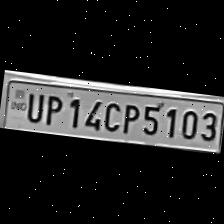0: (176, 106, 199, 140)
1: (61, 93, 83, 129), (160, 104, 180, 138)
3: (196, 107, 218, 142)
4: (79, 95, 103, 131)
5: (137, 100, 162, 136)
C: (98, 98, 120, 133)
P: (41, 90, 64, 127), (118, 99, 139, 135)
U: (21, 89, 45, 124)
